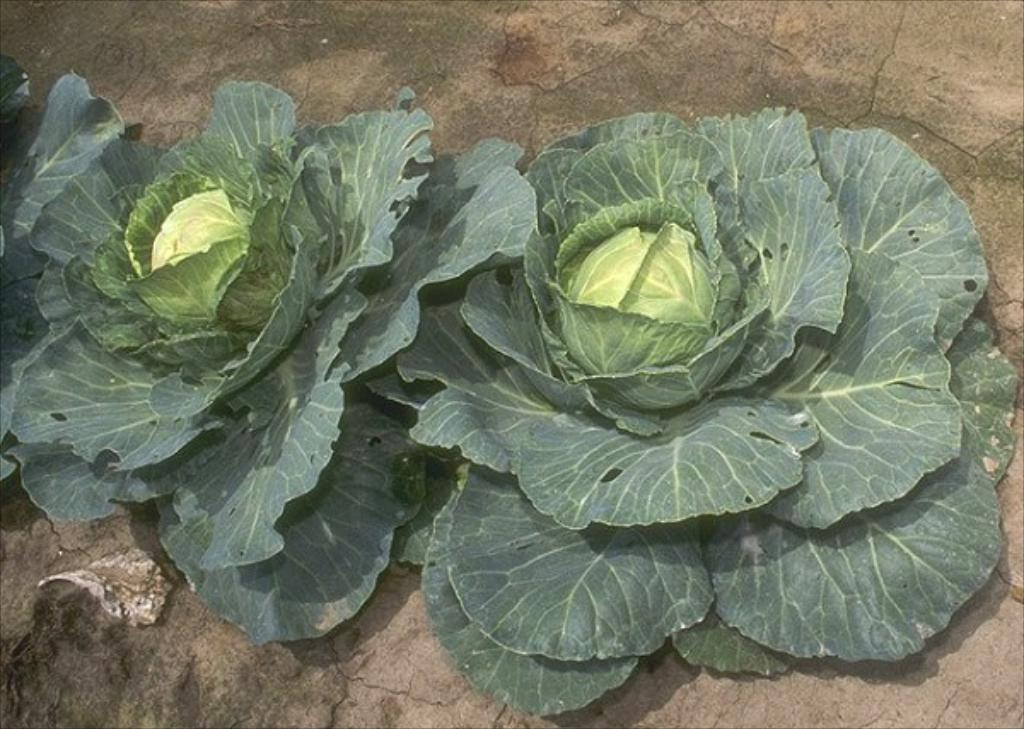Cabbage: (568, 224, 717, 323), (151, 190, 251, 271)
